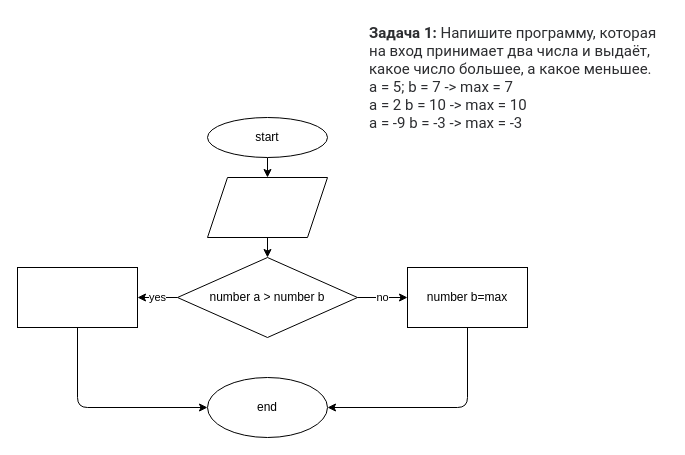
The diagram is 685 pixels wide and 455 high, and some of its shapes have lost their labels. Here are the shapes that lost their labels. From the top down, the box of each, then its label:
(206, 176, 328, 238): number a number b
(16, 266, 138, 328): number a=max
